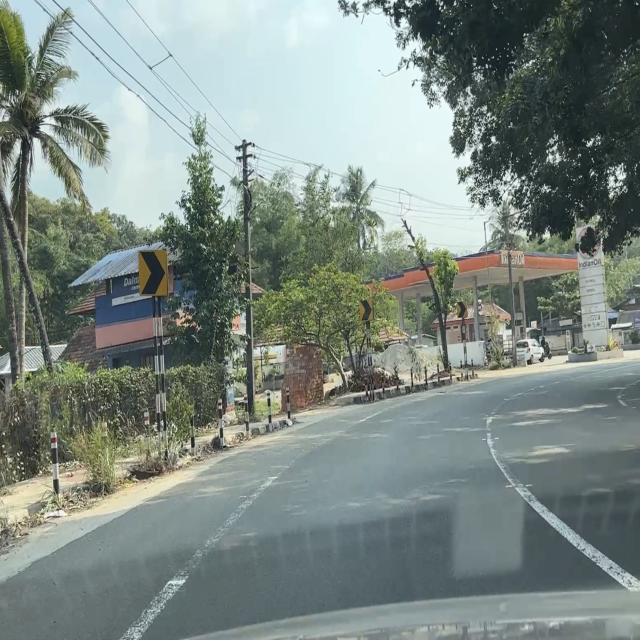TURN_RIGHT: (138, 249, 168, 297), (359, 298, 373, 322), (457, 300, 468, 318)
